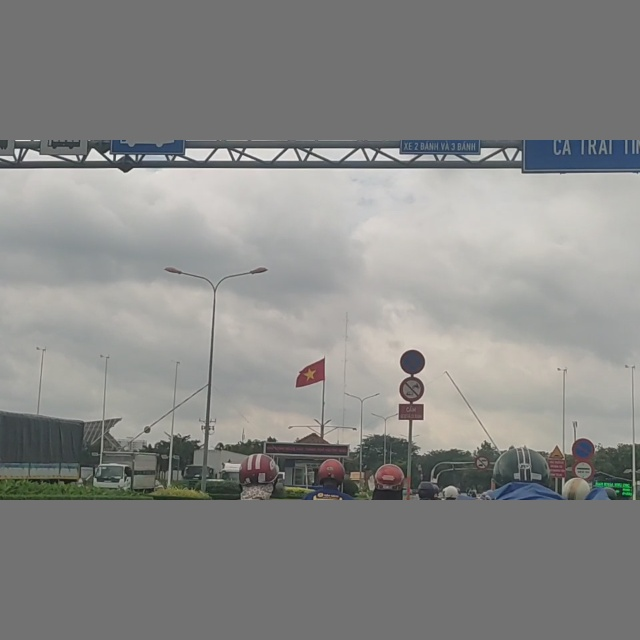P.107: (475, 455, 489, 468)
P.111: (400, 376, 425, 402)
P.129: (573, 460, 594, 480)
P.130: (400, 350, 426, 374)
P.131a: (571, 438, 595, 459)
W.221b: (549, 443, 565, 458)
